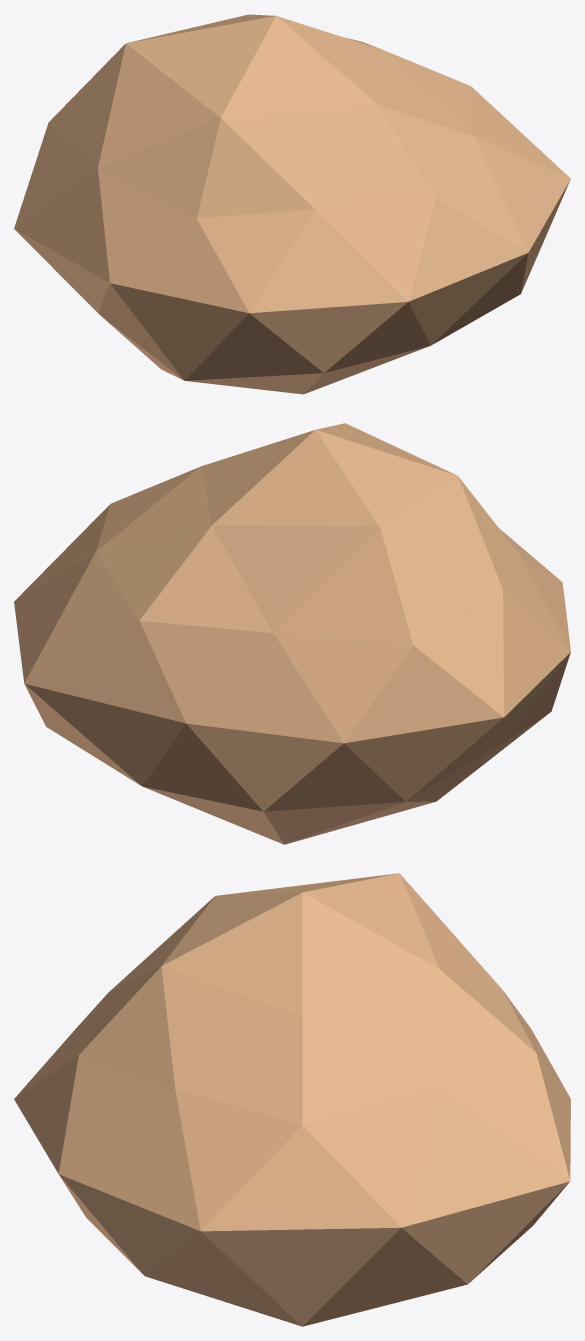
The model's file is SandRock_A.glb.
3 views of the same model, one above another, from view 1: azimuth 30°, elevation 25°; view 2: azimuth 150°, elevation 25°; view 3: azimuth 270°, elevation 25° (orthographic). The views are drawn at different scales.
Parts seen in each view (by area): view 1: SandRock_A; view 2: SandRock_A; view 3: SandRock_A.
Boxes of the visible parts, box(x1,y1,x2,y2) form: SandRock_A: box(14, 14, 570, 394); SandRock_A: box(14, 423, 570, 844); SandRock_A: box(14, 873, 570, 1326).
Size of the model in its own units: 1.84 by 1.39 by 1.73.
